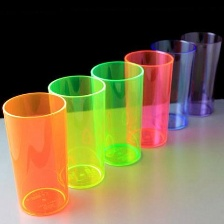glass: (0, 91, 71, 218), (45, 73, 111, 191), (84, 57, 148, 169), (113, 46, 178, 152), (140, 35, 200, 135), (177, 25, 224, 119)
